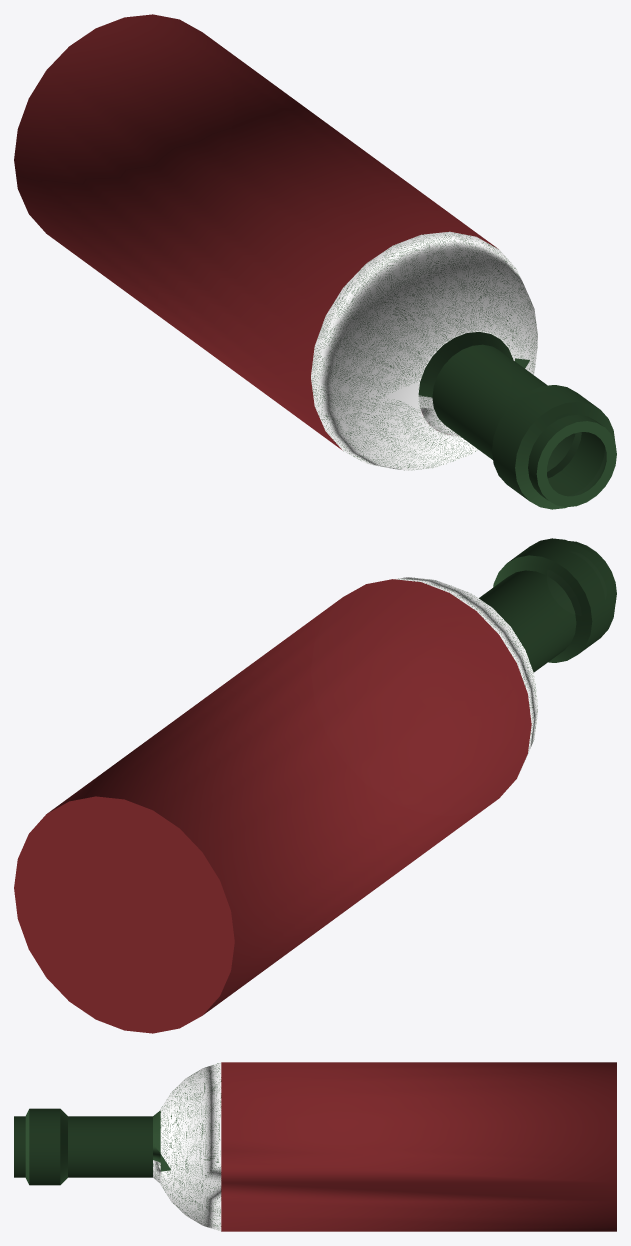
The model's file is model_align.obj.
3 views of the same model, one above another, from view 1: azimuth 30°, elevation 25°; view 2: azimuth 150°, elevation 25°; view 3: azimuth 270°, elevation 25° (orthographic). The views are drawn at different scales.
Visible parts, largest first — view 1: mesh1_mesh1-geometry, mesh2_mesh2-geometry; view 2: mesh1_mesh1-geometry; view 3: mesh1_mesh1-geometry.
Part boxes in pixels (x1=…): mesh1_mesh1-geometry: x1=14, y1=14, x2=616, y2=509; mesh2_mesh2-geometry: x1=548, y1=432, x2=605, y2=496; mesh1_mesh1-geometry: x1=14, y1=538, x2=616, y2=1033; mesh1_mesh1-geometry: x1=14, y1=1062, x2=616, y2=1231.
Size of the model in its own units: 0.056 by 0.056 by 0.1988.
